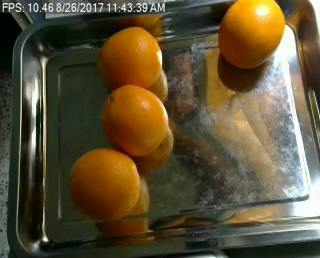Orange: (69, 148, 142, 218), (103, 84, 171, 156), (217, 1, 284, 67), (98, 25, 164, 89)
